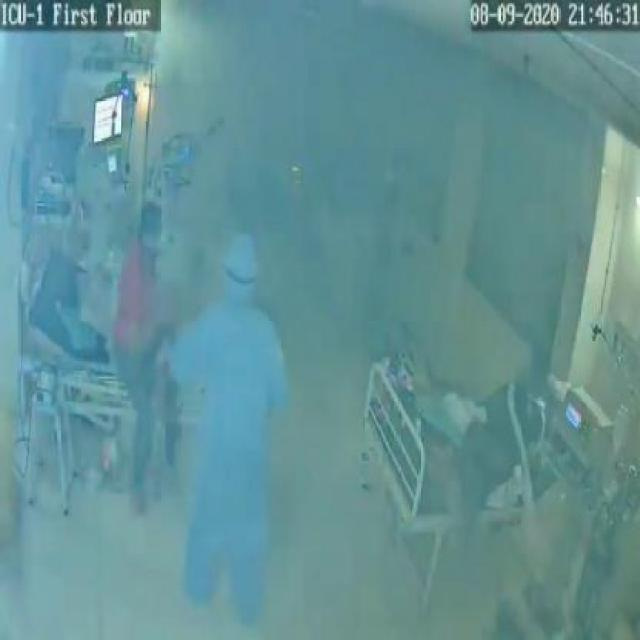smoke: (161, 10, 640, 301)
